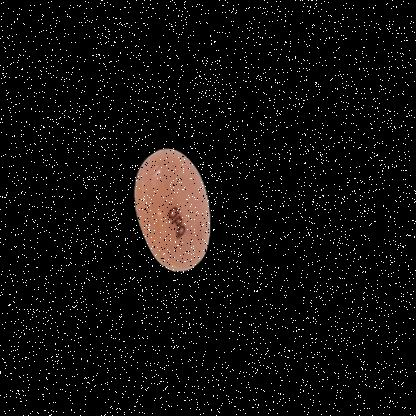opiqutan: (115, 114, 243, 309)
